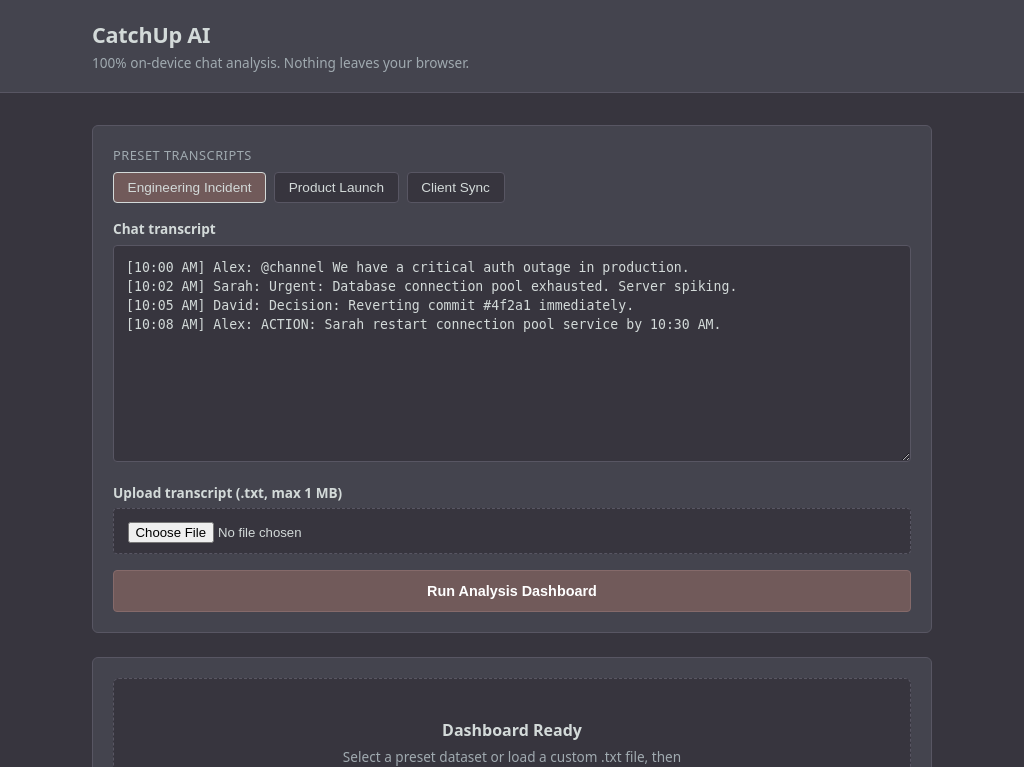
Scenario: CatchUp AI Standalone Application › executes local analysis on default engineering dataset
Click the button "Run Analysis Dashboard" at [512, 591], box [113,570,911,612]
(page scrolled)
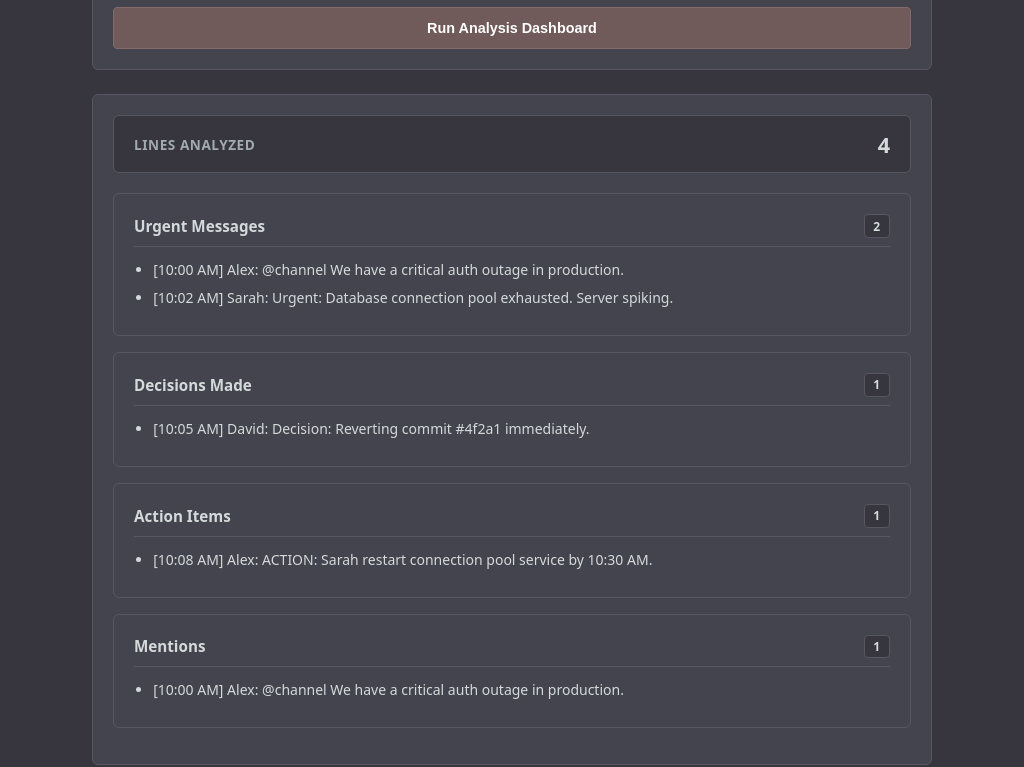
Check: the text "Lines Analyzed" is shown, box [134,135,255,154]
Check: the heading "Urgent Messages" is shown, box [134,216,265,236]
Check: the heading "Decisions Made" is shown, box [134,375,252,395]
